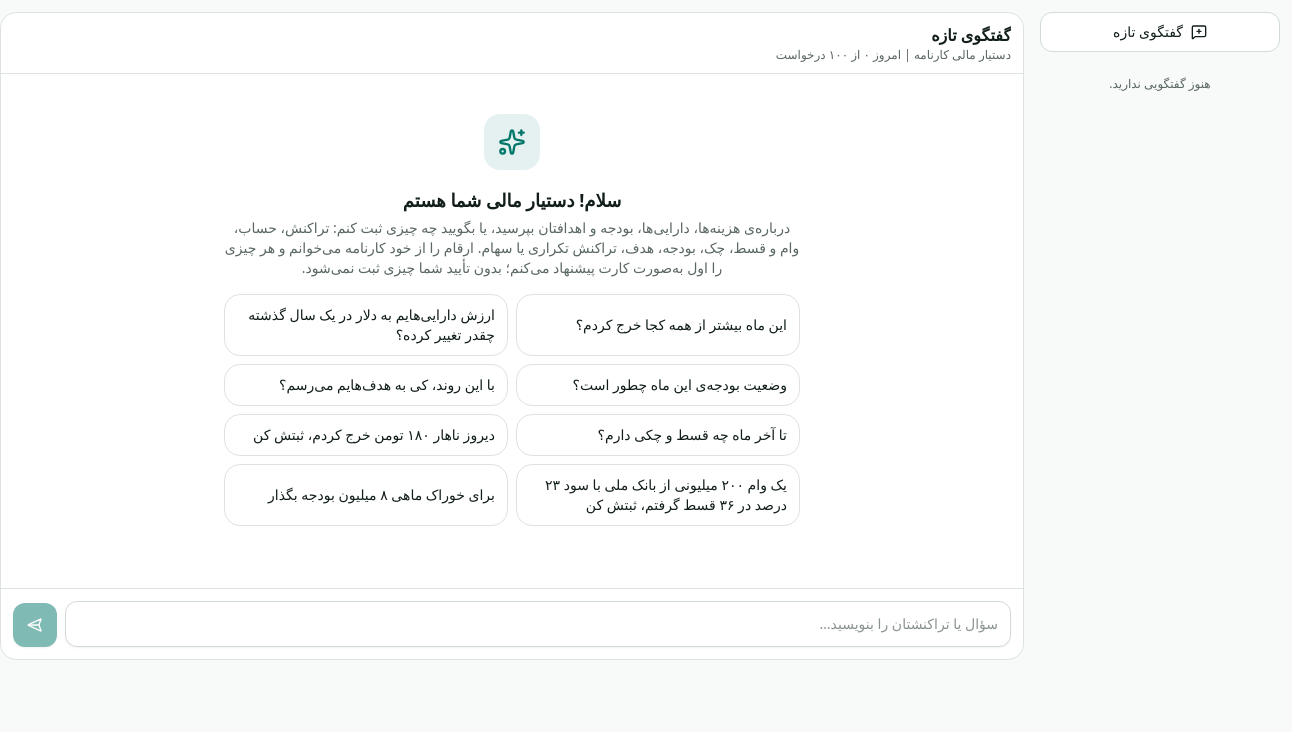
AssistantPage › keeps a refused message on screen with the reason
The width and height of the screenshot is (1292, 732).
Click the button "وضعیت بودجه‌ی این ماه چطور است؟" at (658, 385), box top-left (516, 364), bottom-right (800, 406)
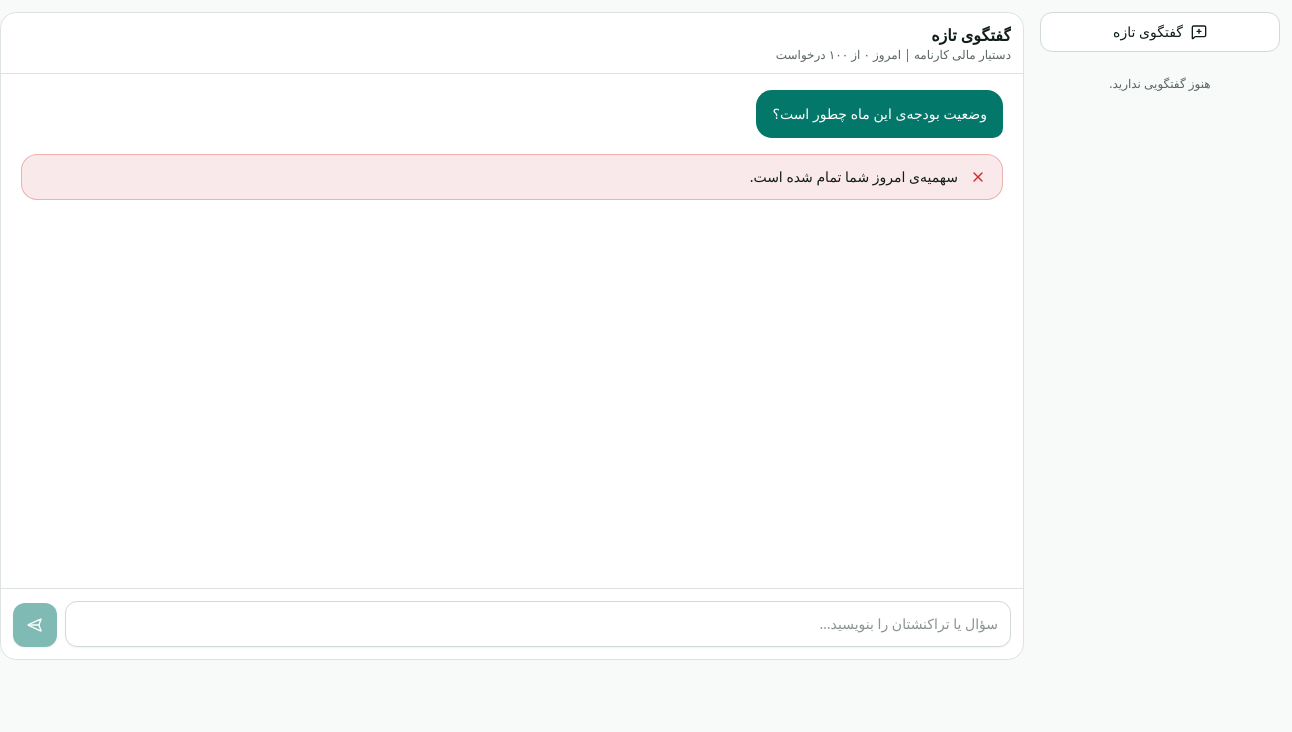
expect the text "وضعیت بودجه‌ی این ماه چطور است؟" is shown: met, box top-left (756, 90), bottom-right (1003, 138)
expect the text "سهمیه‌ی امروز شما تمام شده است." is shown: met, box top-left (21, 154), bottom-right (1003, 200)
expect the heading "سلام! دستیار مالی شما هستم" is gone: met
